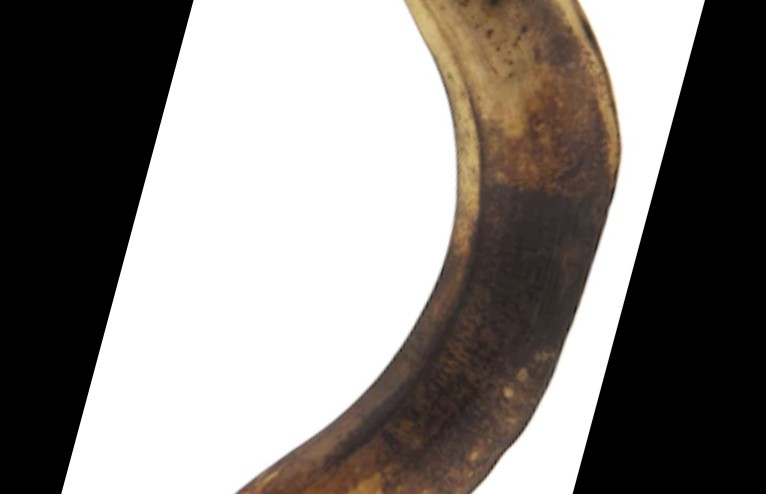rotten_banana: (232, 2, 622, 494)
